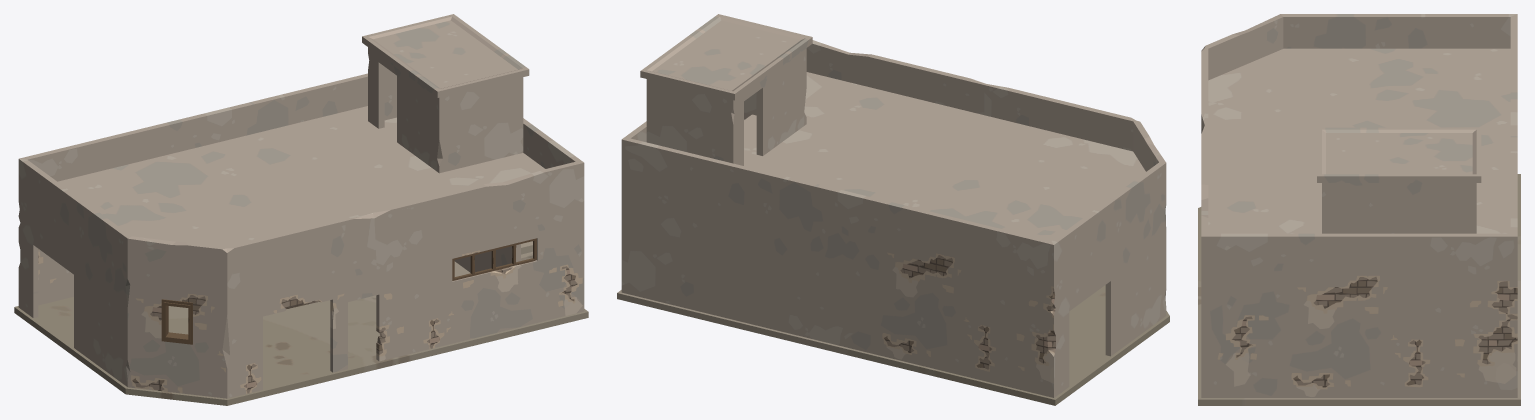
The model's file is SM_Bld_Shop_07.glb.
3 renders of one model, left to right at view 1: azimuth 30°, elevation 25°; view 2: azimuth 150°, elevation 25°; view 3: azimuth 270°, elevation 25°, orthographic. The views are drawn at different scales.
Parts seen in each view (by area): view 1: SM_Bld_Shop_07; view 2: SM_Bld_Shop_07; view 3: SM_Bld_Shop_07.
Part boxes in pixels (bbox=[...]): SM_Bld_Shop_07: bbox=[14, 14, 588, 405]; SM_Bld_Shop_07: bbox=[617, 14, 1169, 405]; SM_Bld_Shop_07: bbox=[1198, 14, 1520, 405].
Bounding box in the file's own units: 15.2 × 7.14 × 9.19.
1 material, 1 textured.
